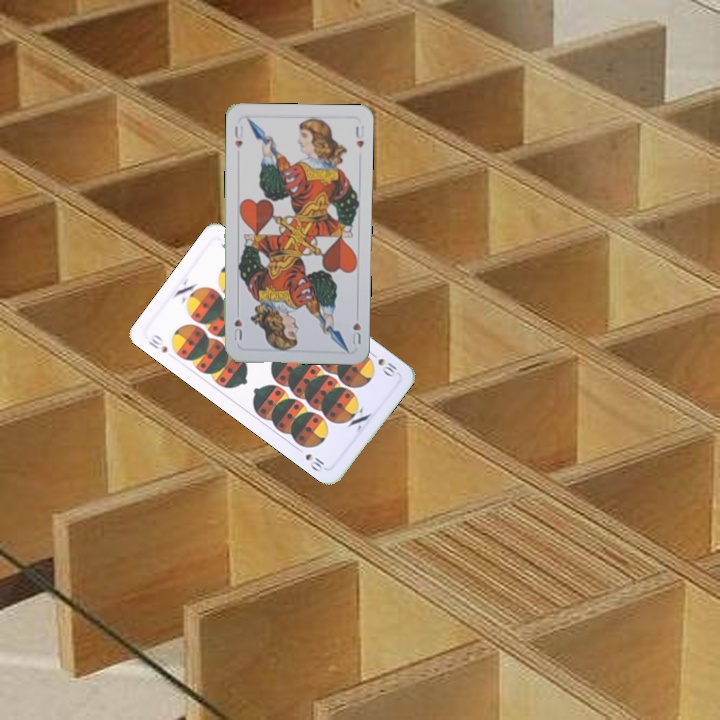HU: (347, 319, 364, 347), (231, 121, 245, 150)
S10: (373, 354, 401, 380), (144, 330, 170, 355)
